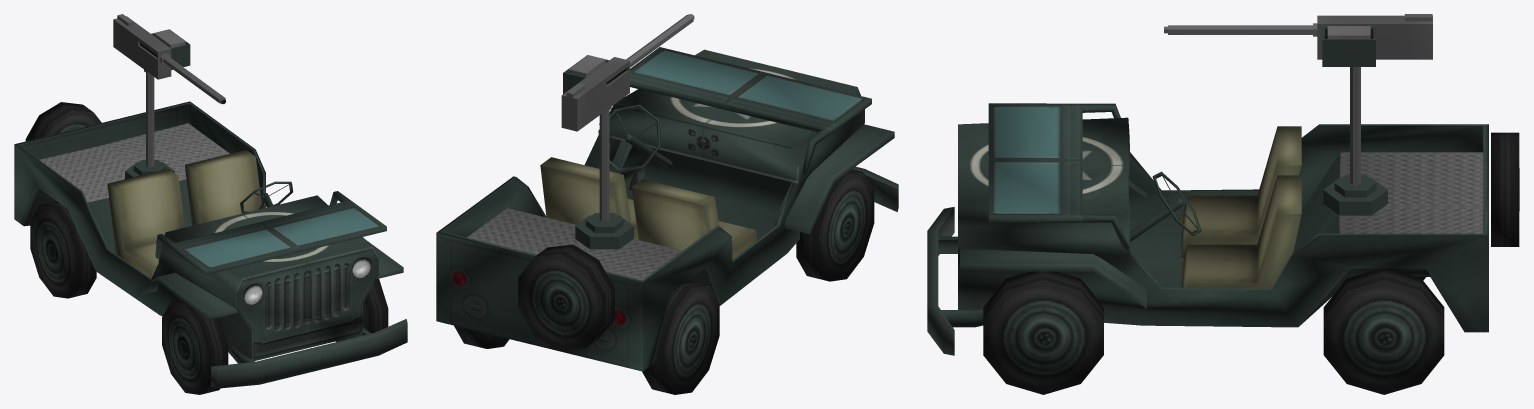
The model's file is jeep-2.obj.
The picture shows the model from 3 angles, left to right: view 1: azimuth 30°, elevation 25°; view 2: azimuth 150°, elevation 25°; view 3: azimuth 270°, elevation 25°; orthographic projection. The views are drawn at different scales.
Visible parts, largest first — view 1: polySurface157, Cylinder.002; view 2: polySurface157, Cylinder.002; view 3: polySurface157, Cylinder.002.
Boxes of the visible parts, x1=… form: polySurface157: x1=14, y1=101, x2=407, y2=394; Cylinder.002: x1=113, y1=14, x2=225, y2=179; polySurface157: x1=436, y1=47, x2=898, y2=394; Cylinder.002: x1=561, y1=14, x2=694, y2=249; polySurface157: x1=927, y1=103, x2=1519, y2=394; Cylinder.002: x1=1164, y1=14, x2=1432, y2=215.
Size of the model in its own units: 2.1 by 2.53 by 4.25.
2 materials, 2 textured.
